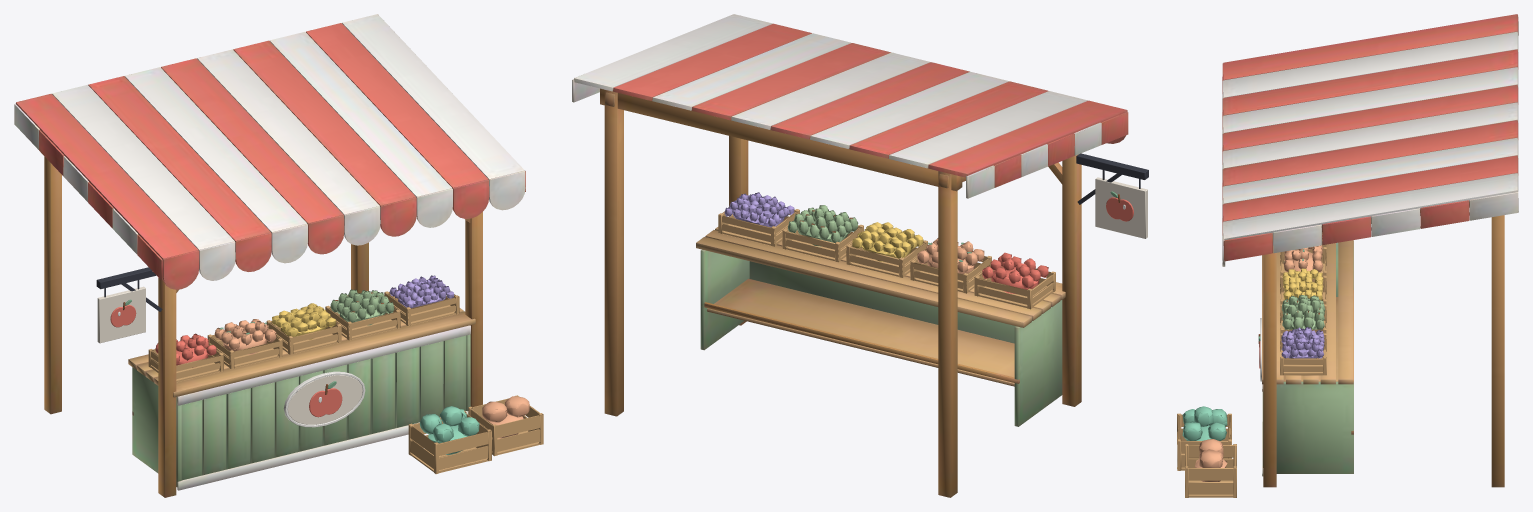
File: market-stall-light.glb
3 views of the same model, side by side, from view 1: azimuth 30°, elevation 25°; view 2: azimuth 150°, elevation 25°; view 3: azimuth 270°, elevation 25° (orthographic). The views are drawn at different scales.
Visible parts, largest first — view 1: market-stall_body, market-stall_crates, market-stall_produce, market-stall_signs; view 2: market-stall_body, market-stall_produce, market-stall_crates, market-stall_signs; view 3: market-stall_body, market-stall_produce, market-stall_crates.
Part boxes in pixels (x1=…): market-stall_body: x1=14, y1=14, x2=525, y2=497; market-stall_crates: x1=148, y1=290, x2=543, y2=474; market-stall_produce: x1=155, y1=275, x2=529, y2=454; market-stall_signs: x1=96, y1=267, x2=365, y2=427; market-stall_body: x1=572, y1=14, x2=1128, y2=497; market-stall_produce: x1=724, y1=192, x2=1048, y2=294; market-stall_crates: x1=718, y1=209, x2=1055, y2=309; market-stall_signs: x1=1076, y1=153, x2=1148, y2=238; market-stall_body: x1=1222, y1=14, x2=1518, y2=487; market-stall_produce: x1=1182, y1=235, x2=1325, y2=481; market-stall_crates: x1=1177, y1=232, x2=1326, y2=497.
Bounding box in the file's own units: 3.64 × 2.65 × 2.66.
Materials: 15 (1 with a texture image).
